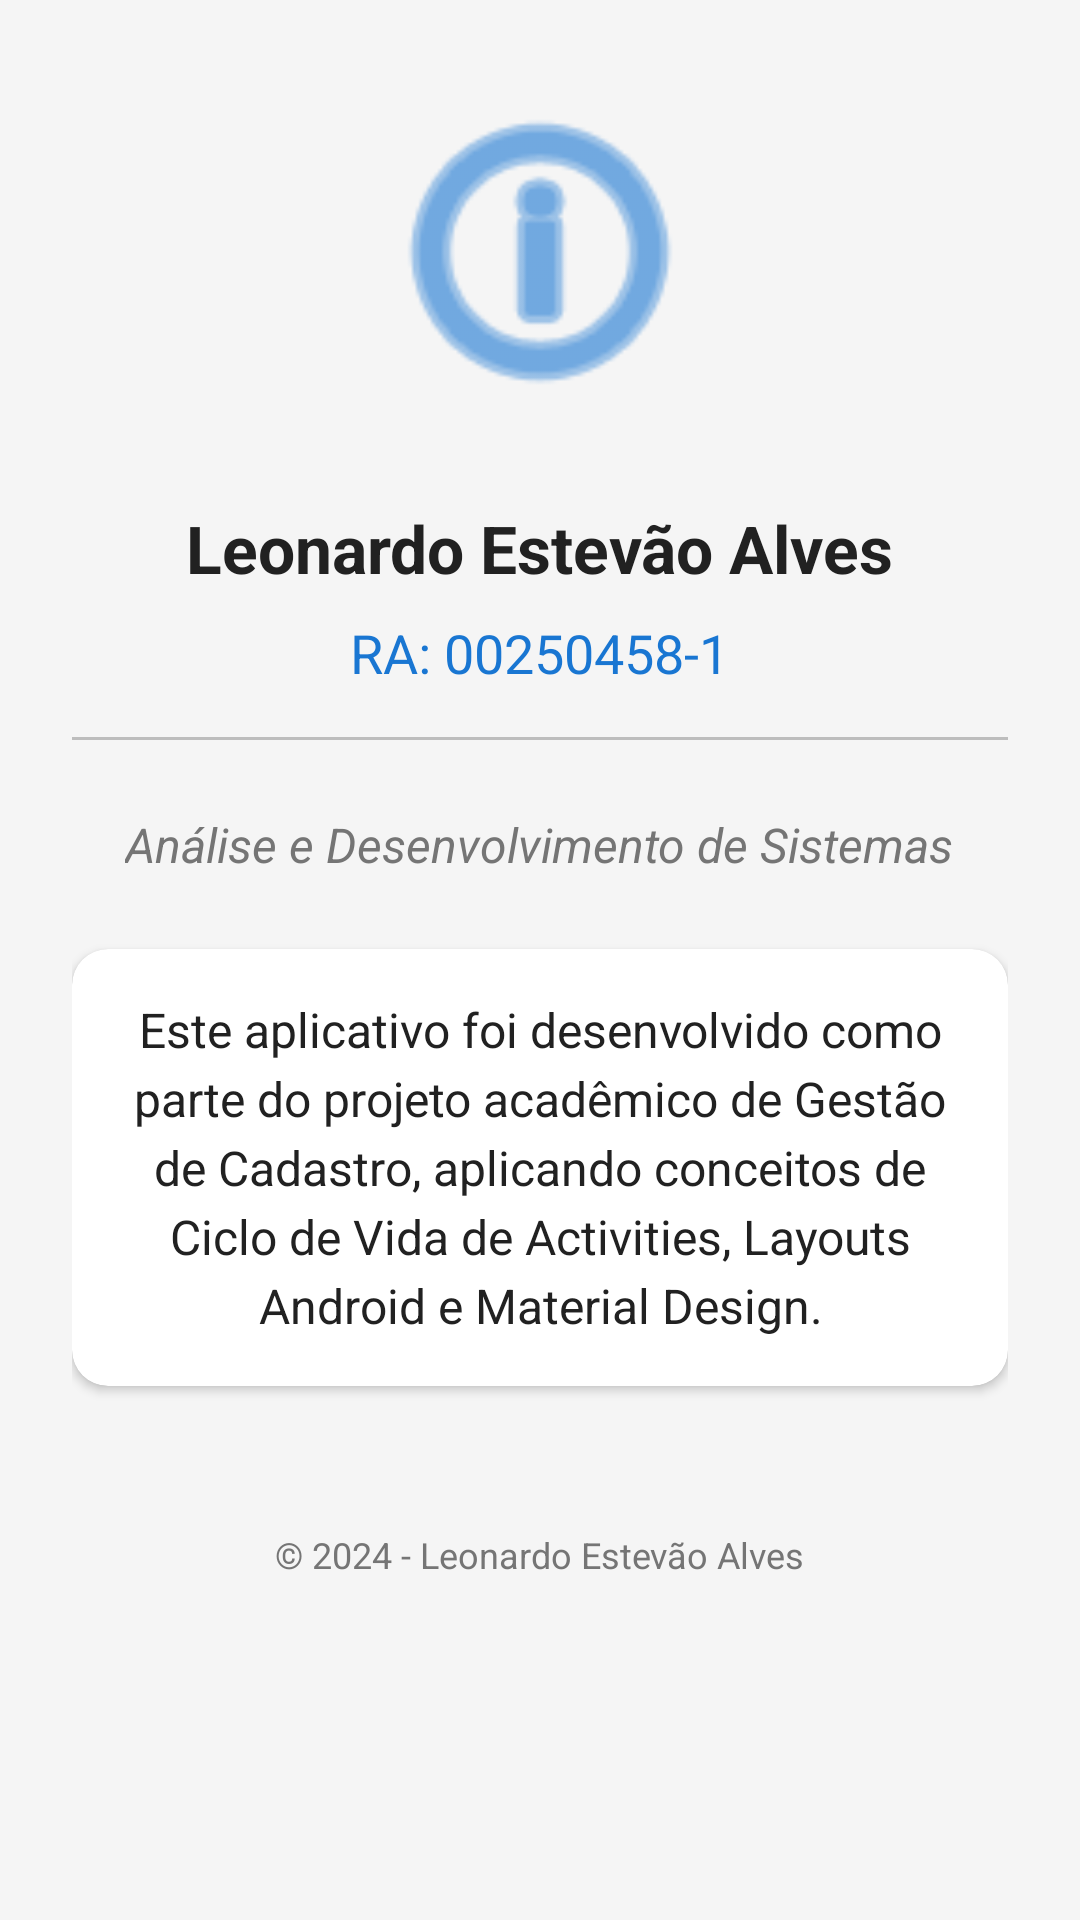

Named icons in this screenshot (1080×1920) and their centers, [x,y]:
Sobre o Desenvolvedor: [540,252]
